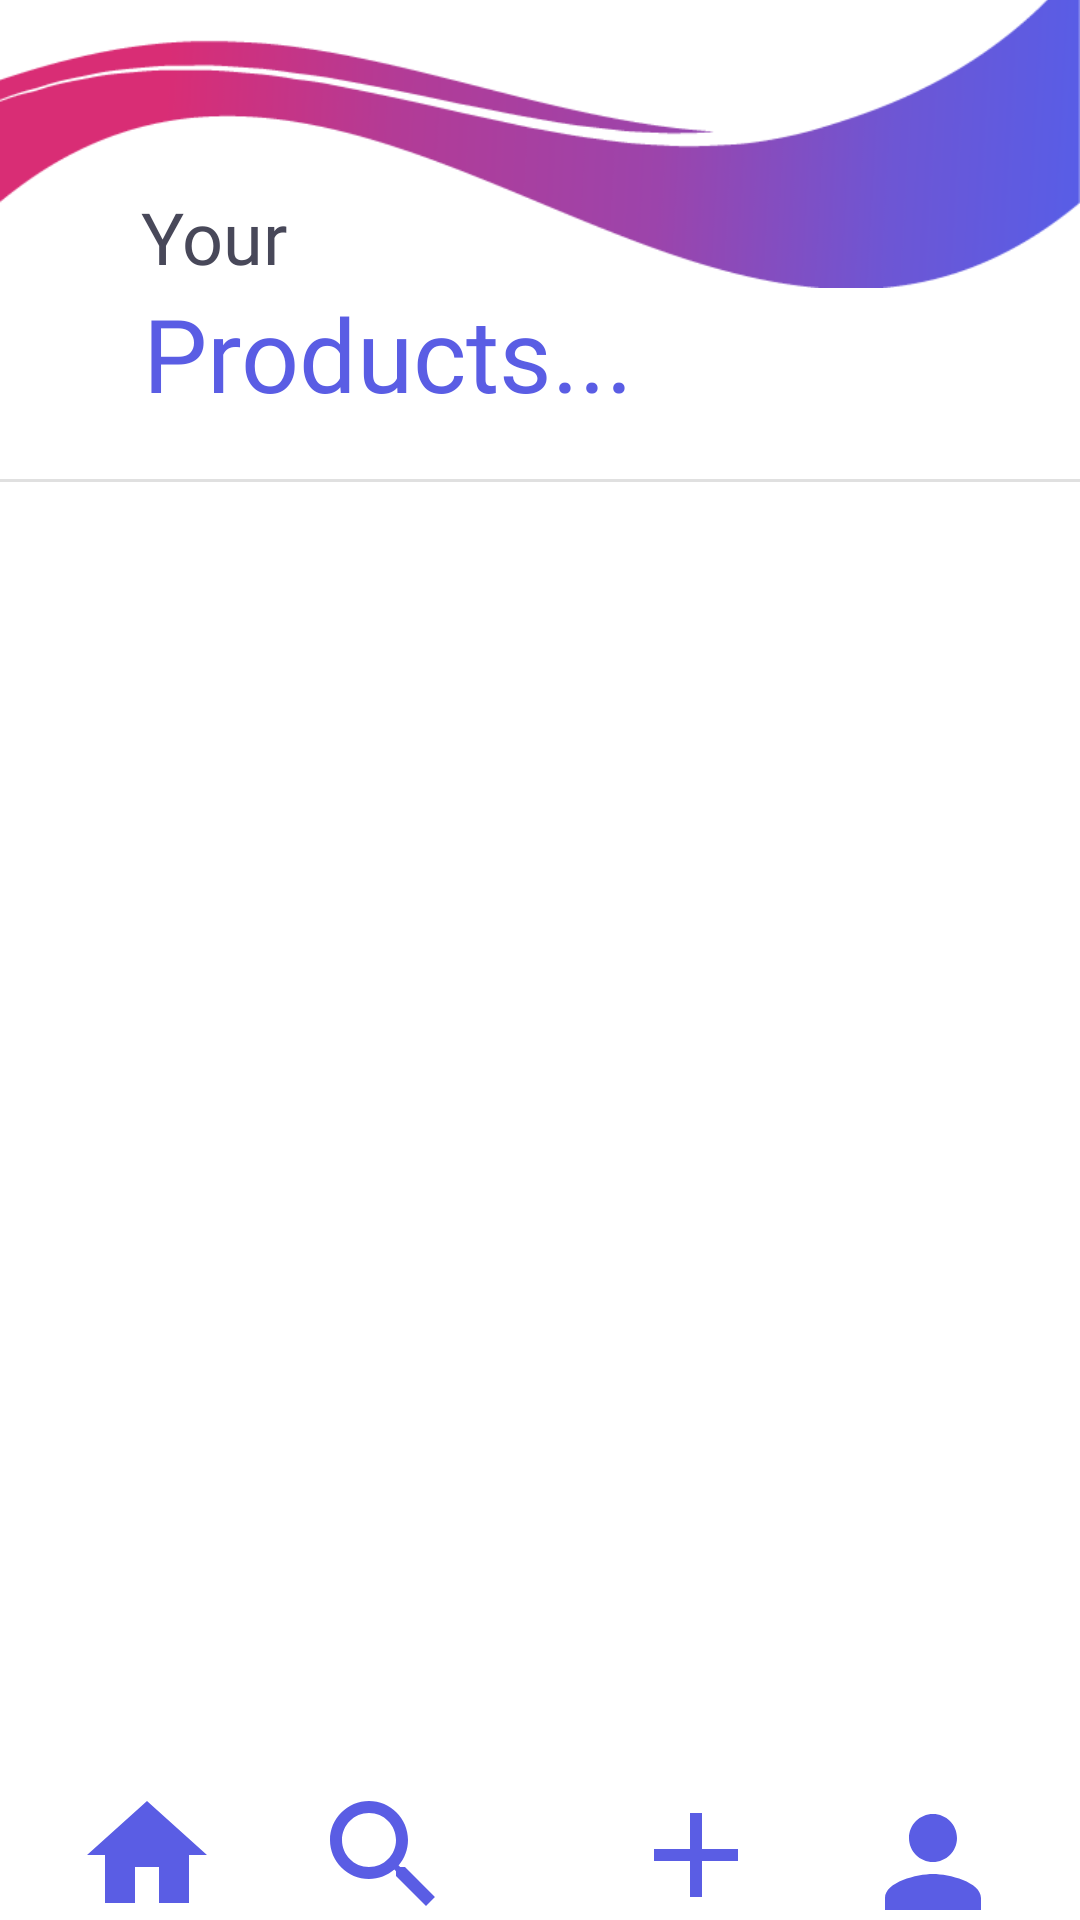

Icon click points for this 1080w x 1920h phone screenshot, format (x=x, y=y):
home: (x=147, y=1852)
plus: (x=696, y=1855)
profile: (x=933, y=1862)
search: (x=382, y=1853)
